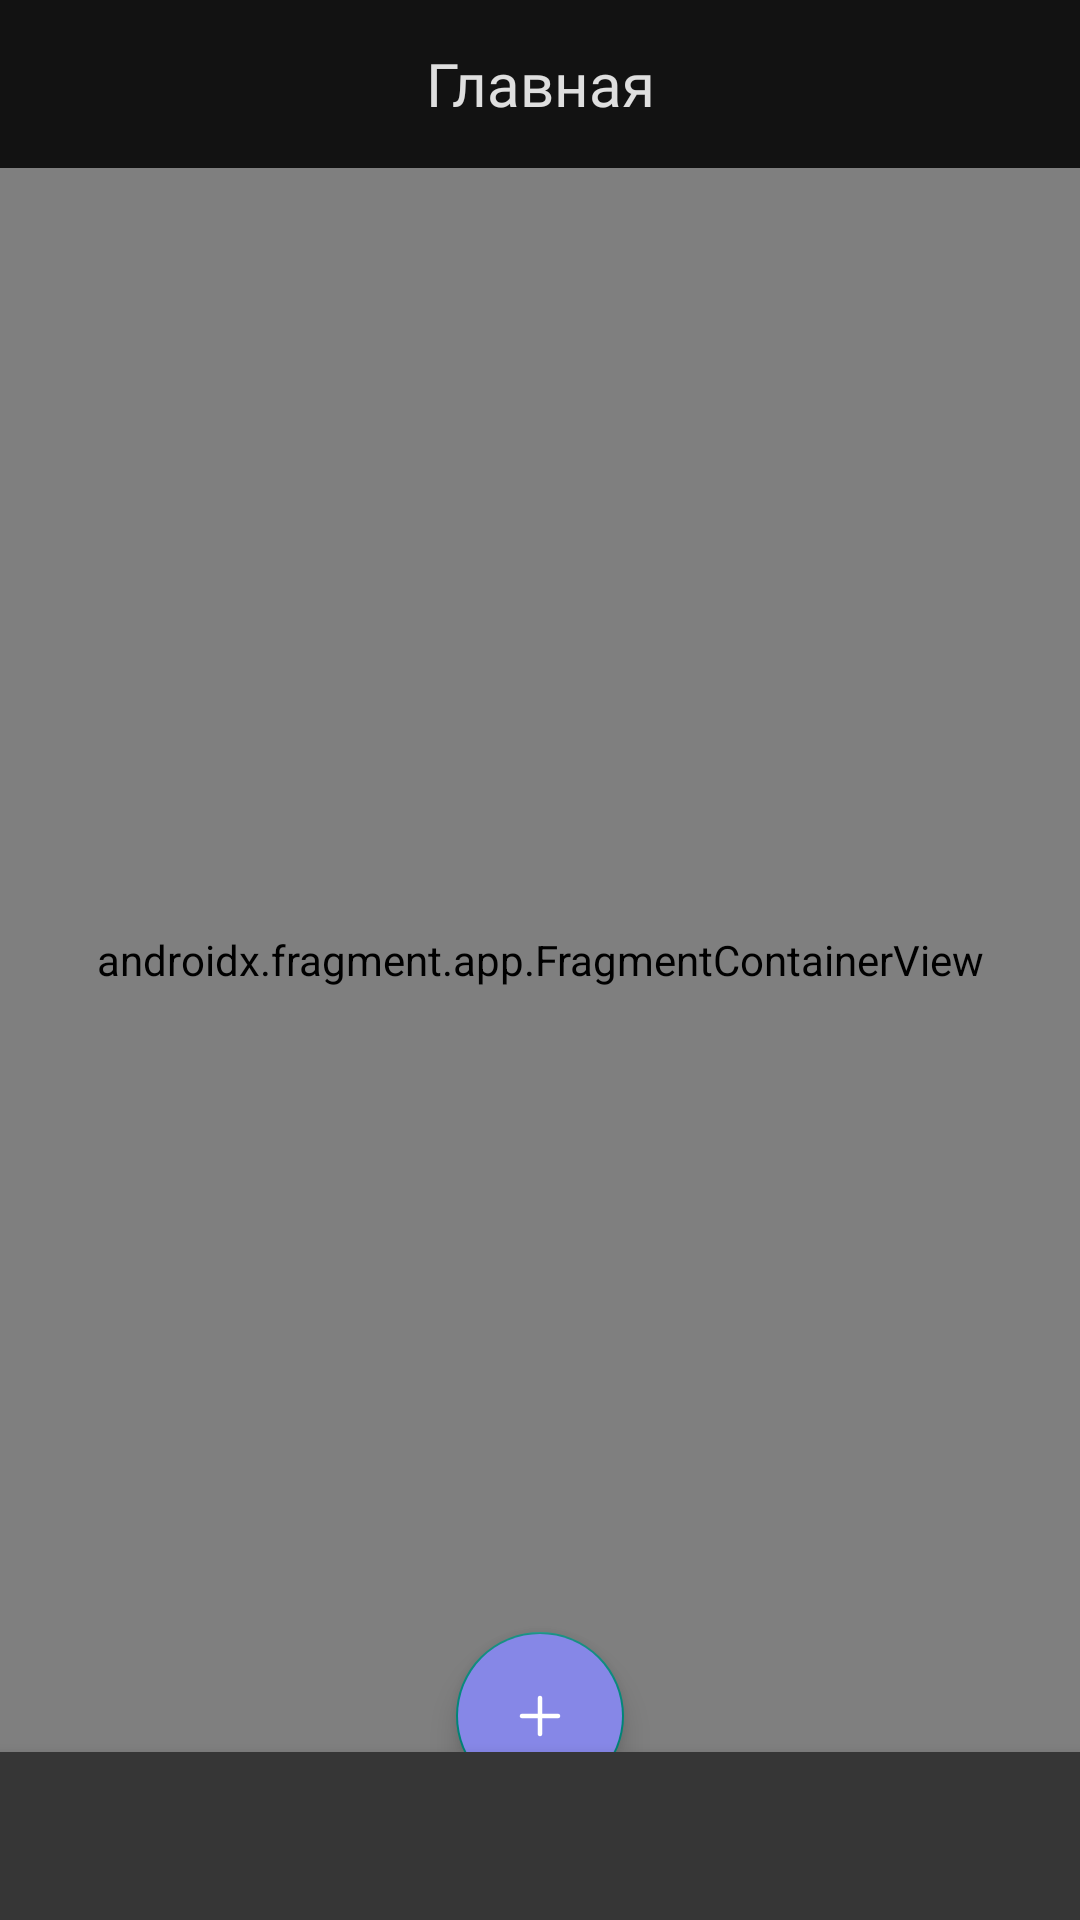

Screen size 1080px x 1920px. Icon name, then its center in pixels as [x,y]:
add: [540,1716]
